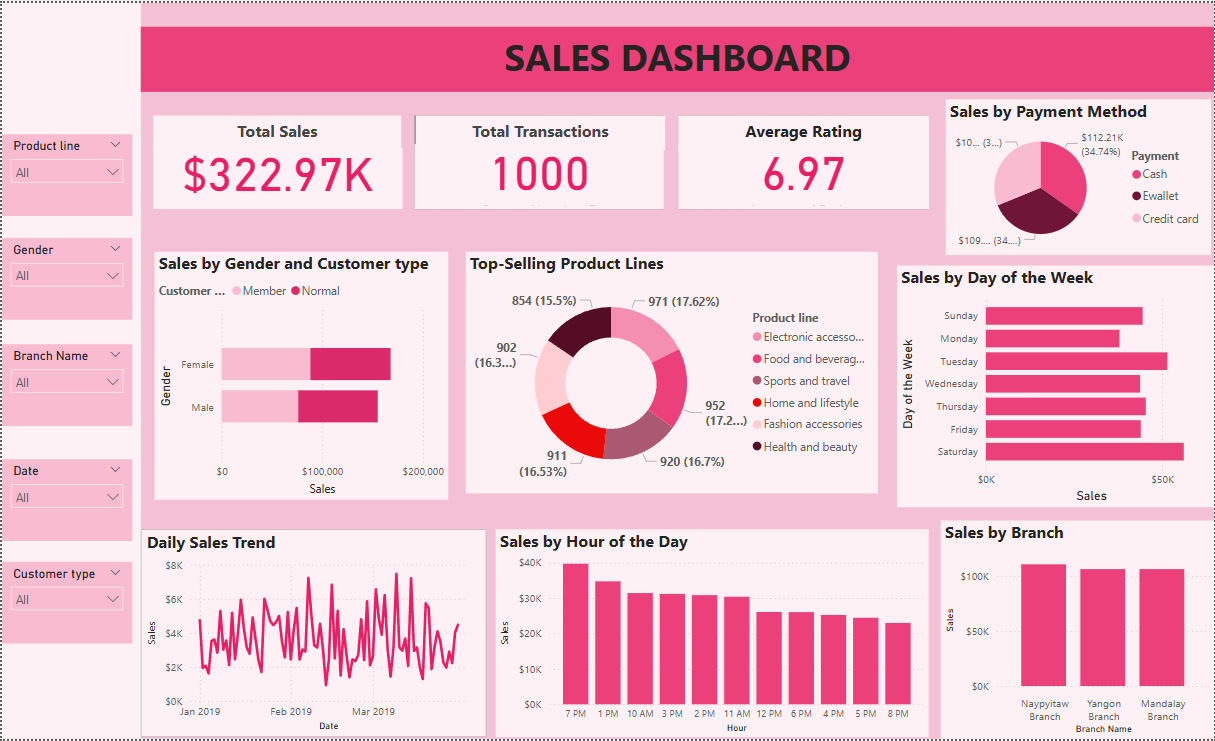

What the dashboard file says about the page in this screenshot:
{"tool":"powerbi","page":{"name":"Page 1","canvas":[1400,850],"ordinal":0},"visuals":[{"type":"shape","box":[0,0,160.6,849.5],"z":0},{"type":"card","fields":{"Values":["Avg(supermarket_sales - Sheet1.Rating)"]},"box":[780.4,163.6,289.7,75],"z":0,"group":"g3"},{"type":"card","fields":{"Values":["CountNonNull(supermarket_sales - Sheet1.Invoice ID)"]},"box":[475.8,164.3,288.2,75],"z":0,"group":"g2"},{"type":"card","fields":{"Values":["Sum(supermarket_sales - Sheet1.Total)"]},"box":[174.8,168.3,288.2,70.4],"z":0,"group":"g1"},{"type":"group","id":"g1","title":"Group 1","box":[174.1,130.6,288.2,108.1],"z":1000},{"type":"textbox","box":[174.1,130.6,286.7,39],"z":1000,"group":"g1"},{"type":"textbox","box":[476.5,130.6,287.8,40.1],"z":1000,"group":"g2"},{"type":"textbox","box":[780.4,130.6,289.7,40.5],"z":1000,"group":"g3"},{"type":"group","id":"g2","title":"Group 1","box":[475.8,130.6,288.2,108.1],"z":3000},{"type":"lineChart","title":"Daily Sales Trend","fields":{"Y":["Sum(supermarket_sales - Sheet1.Total)"],"Category":["supermarket_sales - Sheet1.Date"]},"box":[160.6,607.8,399.2,240.1],"z":4000},{"type":"group","id":"g3","title":"Group 1","box":[780.4,130.6,289.7,108.1],"z":5000},{"type":"clusteredColumnChart","title":"Sales by Branch","fields":{"Category":["supermarket_sales - Sheet1.Branch Name"],"Y":["Sum(supermarket_sales - Sheet1.Total)"]},"box":[1083.6,597.3,316.7,252.1],"z":6000},{"type":"donutChart","title":"Top-Selling Product Lines","fields":{"Category":["supermarket_sales - Sheet1.Product line"],"Y":["Sum(supermarket_sales - Sheet1.Quantity)"]},"box":[535.8,286.7,475.8,279.2],"z":6001},{"type":"barChart","title":"Sales by Gender and Customer type","fields":{"Category":["supermarket_sales - Sheet1.Gender"],"Series":["supermarket_sales - Sheet1.Customer type"],"Y":["Sum(supermarket_sales - Sheet1.Total)"]},"box":[175.6,286.7,339.2,286.7],"z":6002},{"type":"columnChart","title":"Sales by Hour of the Day","fields":{"Y":["Sum(supermarket_sales - Sheet1.Total)"],"Category":["supermarket_sales - Sheet1.Hour Label"]},"box":[570.3,607.8,499.8,240.1],"z":6003},{"type":"clusteredBarChart","title":"Sales by Day of the Week","fields":{"Y":["Sum(supermarket_sales - Sheet1.Total)"],"Category":["supermarket_sales - Sheet1.Day of the Week"]},"box":[1034.1,303.2,366.2,279.2],"z":6004},{"type":"pieChart","title":"Sales by Payment Method","fields":{"Category":["supermarket_sales - Sheet1.Payment"],"Y":["Sum(supermarket_sales - Sheet1.Total)"]},"box":[1089.6,111.1,306.2,180.1],"z":6005},{"type":"slicer","fields":{"Values":["supermarket_sales - Sheet1.Product line"]},"box":[0,151.6,150.1,94.6],"z":6006},{"type":"slicer","fields":{"Values":["supermarket_sales - Sheet1.Gender"]},"box":[0,271.7,150.1,94.6],"z":6007},{"type":"slicer","fields":{"Values":["supermarket_sales - Sheet1.Branch Name"]},"box":[0,394.7,150.1,94.6],"z":6008},{"type":"slicer","fields":{"Values":["supermarket_sales - Sheet1.Date"]},"box":[0,526.8,150.1,94.6],"z":6009},{"type":"slicer","fields":{"Values":["supermarket_sales - Sheet1.Customer type"]},"box":[0,645.4,150.1,94.6],"z":6010},{"type":"textbox","box":[160.6,27,1239.7,75],"z":6013}]}

Visuals, with their boxes in screenshot pixels (x1, y1, x2, y2), scaled from the page's 1400x850 canvas onto the 1215x741 screenshot:
shape: rect(0, 0, 139, 740)
card - Avg(supermarket_sales - Sheet1.Rating): rect(677, 143, 929, 208)
card - CountNonNull(supermarket_sales - Sheet1.Invoice ID): rect(413, 143, 663, 209)
card - Sum(supermarket_sales - Sheet1.Total): rect(152, 147, 402, 208)
"Group 1" group: rect(151, 114, 401, 208)
textbox: rect(151, 114, 400, 148)
textbox: rect(414, 114, 663, 149)
textbox: rect(677, 114, 929, 149)
"Group 1" group: rect(413, 114, 663, 208)
"Daily Sales Trend" lineChart: rect(139, 530, 486, 739)
"Group 1" group: rect(677, 114, 929, 208)
"Sales by Branch" clusteredColumnChart: rect(940, 521, 1214, 740)
"Top-Selling Product Lines" donutChart: rect(465, 250, 878, 493)
"Sales by Gender and Customer type" barChart: rect(152, 250, 447, 500)
"Sales by Hour of the Day" columnChart: rect(495, 530, 929, 739)
"Sales by Day of the Week" clusteredBarChart: rect(897, 264, 1214, 508)
"Sales by Payment Method" pieChart: rect(946, 97, 1211, 254)
slicer - supermarket_sales - Sheet1.Product line: rect(0, 132, 130, 215)
slicer - supermarket_sales - Sheet1.Gender: rect(0, 237, 130, 319)
slicer - supermarket_sales - Sheet1.Branch Name: rect(0, 344, 130, 427)
slicer - supermarket_sales - Sheet1.Date: rect(0, 459, 130, 542)
slicer - supermarket_sales - Sheet1.Customer type: rect(0, 563, 130, 645)
textbox: rect(139, 24, 1214, 89)
